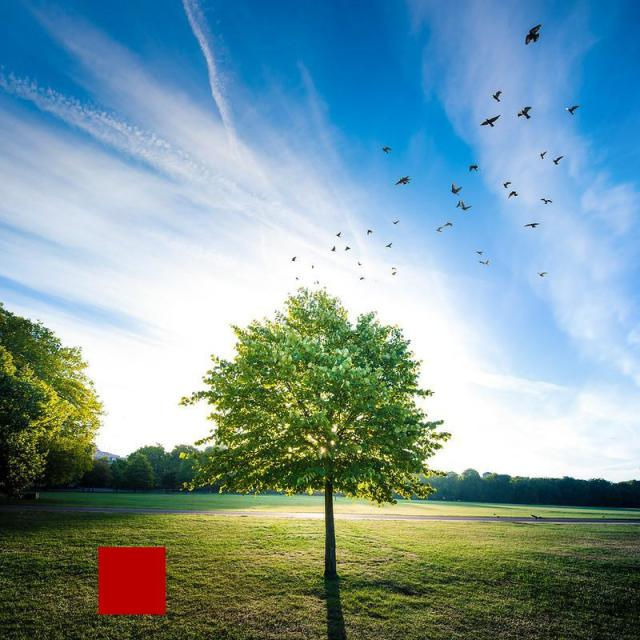RedSquare: (96, 537, 172, 624)
